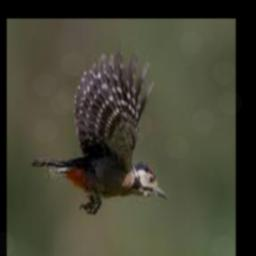Woodpecker: (32, 52, 171, 212)
